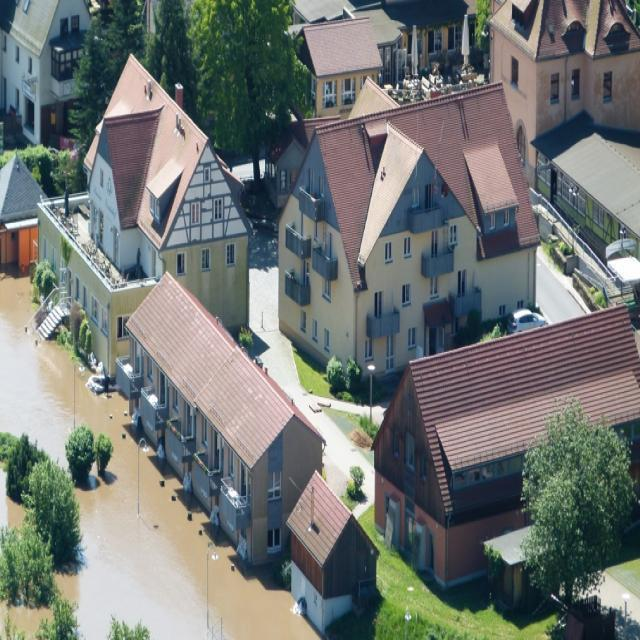flood: (0, 276, 320, 640), (0, 607, 48, 640), (0, 470, 23, 526)
house: (381, 306, 640, 594), (125, 255, 338, 557), (308, 93, 542, 367), (87, 60, 226, 284), (532, 110, 640, 303), (284, 466, 388, 638), (284, 5, 406, 121), (492, 0, 590, 136), (4, 0, 92, 150), (0, 151, 55, 273)
